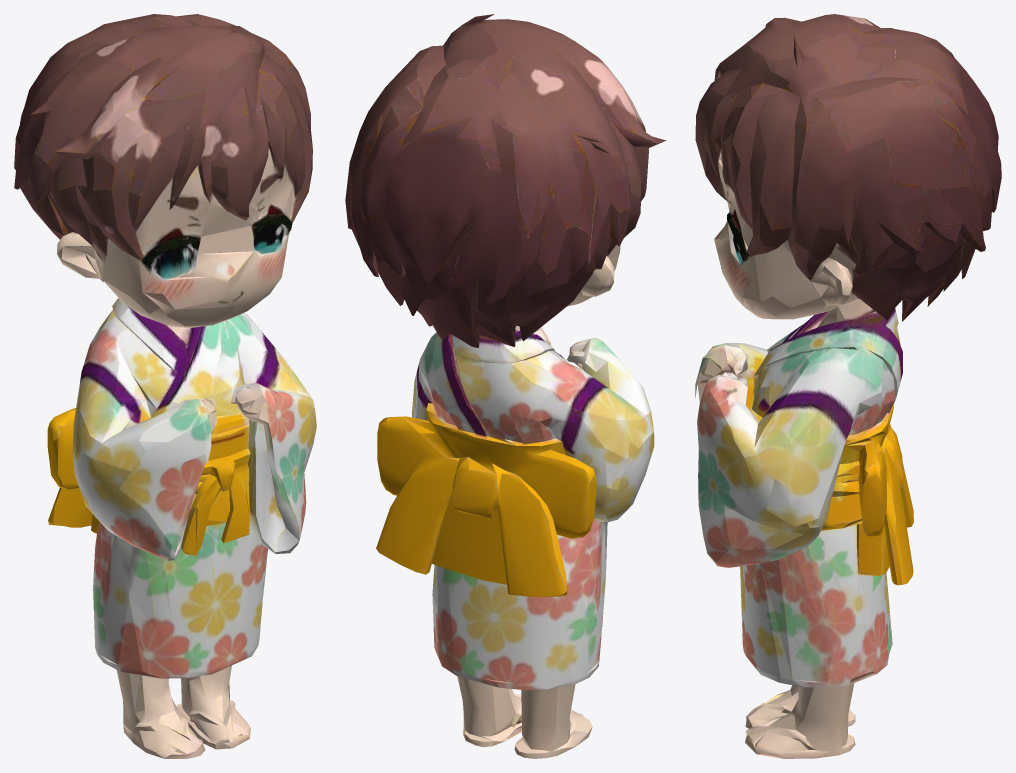
The model's file is villager_child.glb.
3 renders of one model, left to right at view 1: azimuth 30°, elevation 25°; view 2: azimuth 150°, elevation 25°; view 3: azimuth 270°, elevation 25°, orthographic. The views are drawn at different scales.
Size of the model in its own units: 0.7597 by 1.9 by 0.7375.
1 material, 1 textured.
